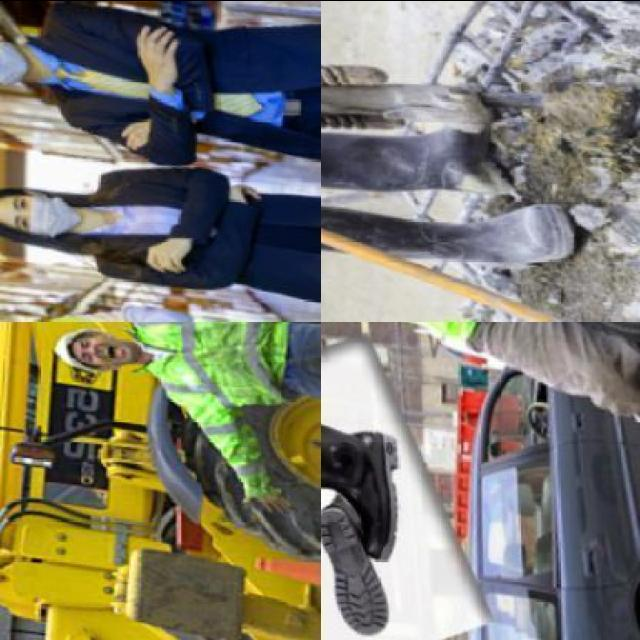helmet: (44, 323, 104, 380)
jacket: (130, 322, 306, 510)
